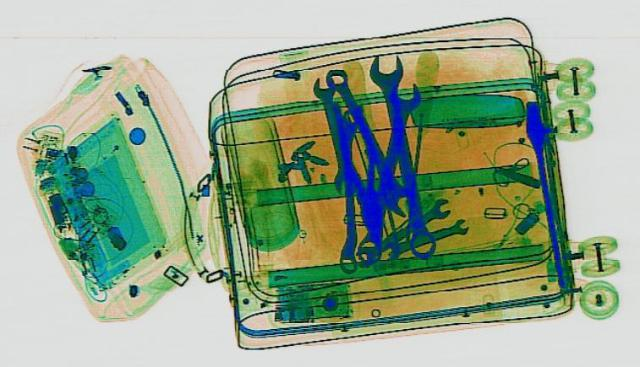Wrench: (312, 66, 426, 215), (364, 53, 444, 258), (358, 82, 422, 213), (346, 194, 464, 262), (308, 75, 360, 192), (372, 216, 476, 258), (336, 109, 356, 272)
